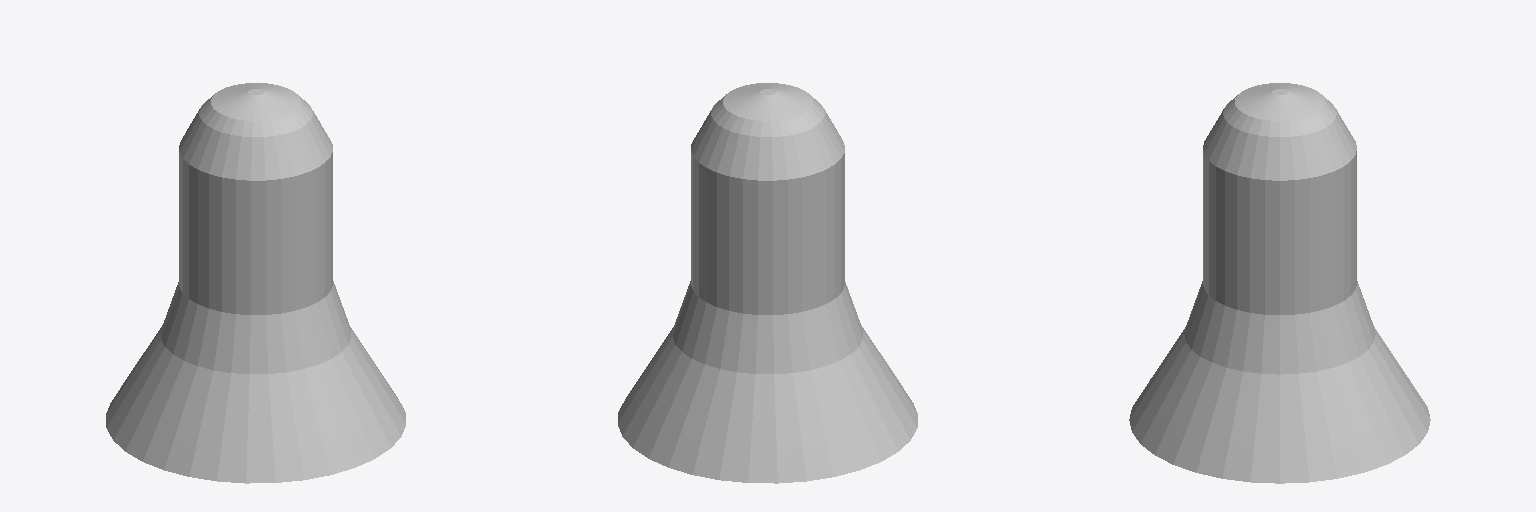
The model's file is ghost.obj.
3 views of the same model, side by side, from view 1: azimuth 30°, elevation 25°; view 2: azimuth 150°, elevation 25°; view 3: azimuth 270°, elevation 25° (orthographic).
Visible parts, largest first — view 1: Cylinder; view 2: Cylinder; view 3: Cylinder.
Part boxes in pixels (left/top/right/bottom): Cylinder: left=106, top=83, right=405, bottom=483; Cylinder: left=618, top=83, right=917, bottom=483; Cylinder: left=1129, top=83, right=1430, bottom=483.
Size of the model in its own units: 3.9 by 4.68 by 3.9.